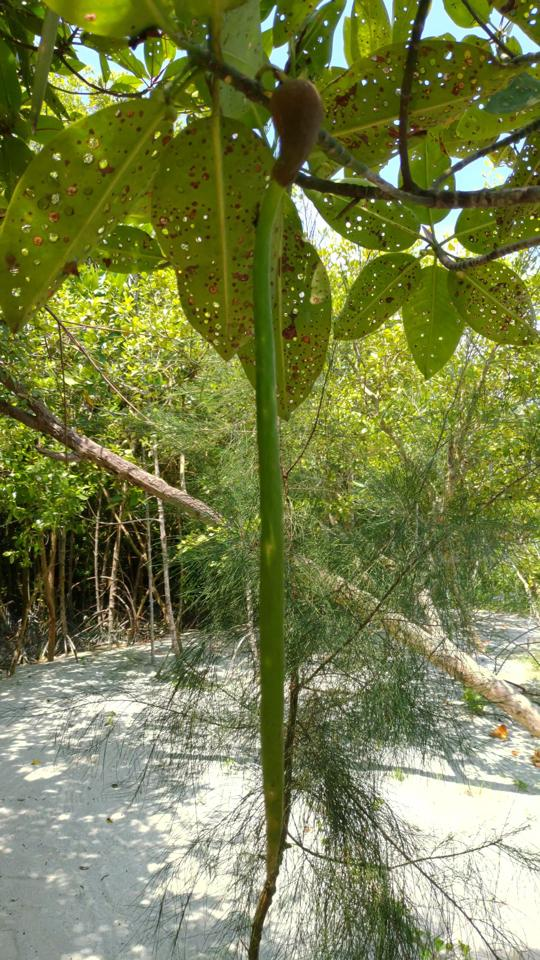mentah: (197, 40, 368, 956)
